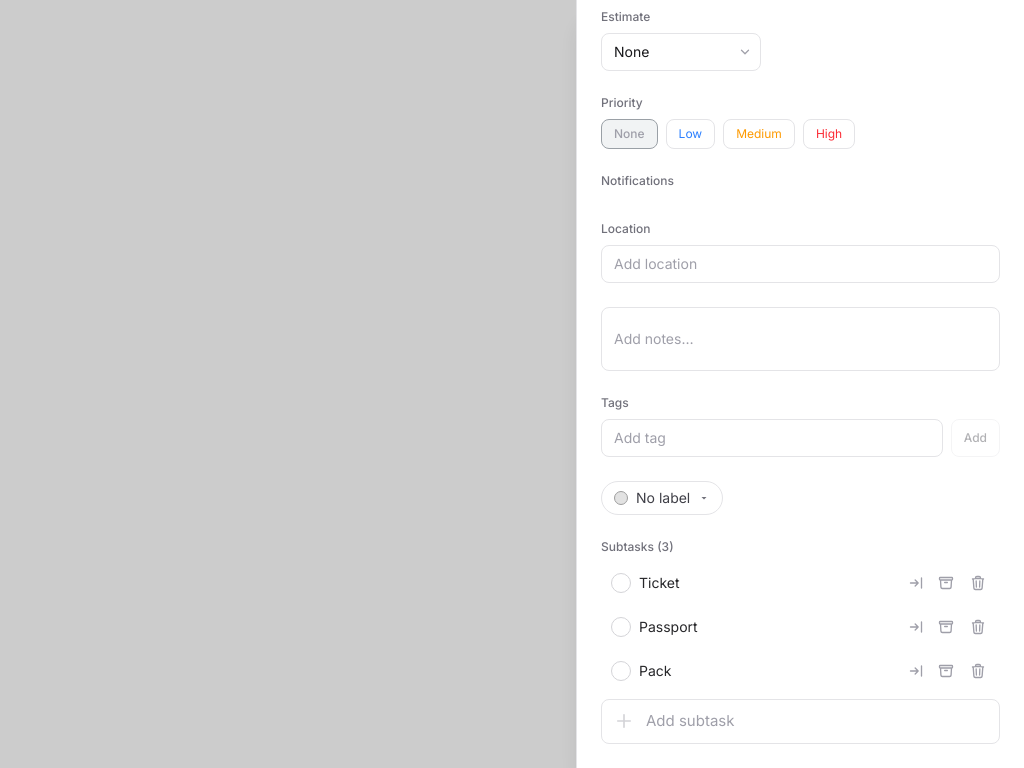
TaskDetail のサブタスク（#613） › 消した・アーカイブした子は欄から消え、件数にも入れない
(page scrolled)
Click the 3rd button named "Delete" at (978, 671), box [966,659,990,683]
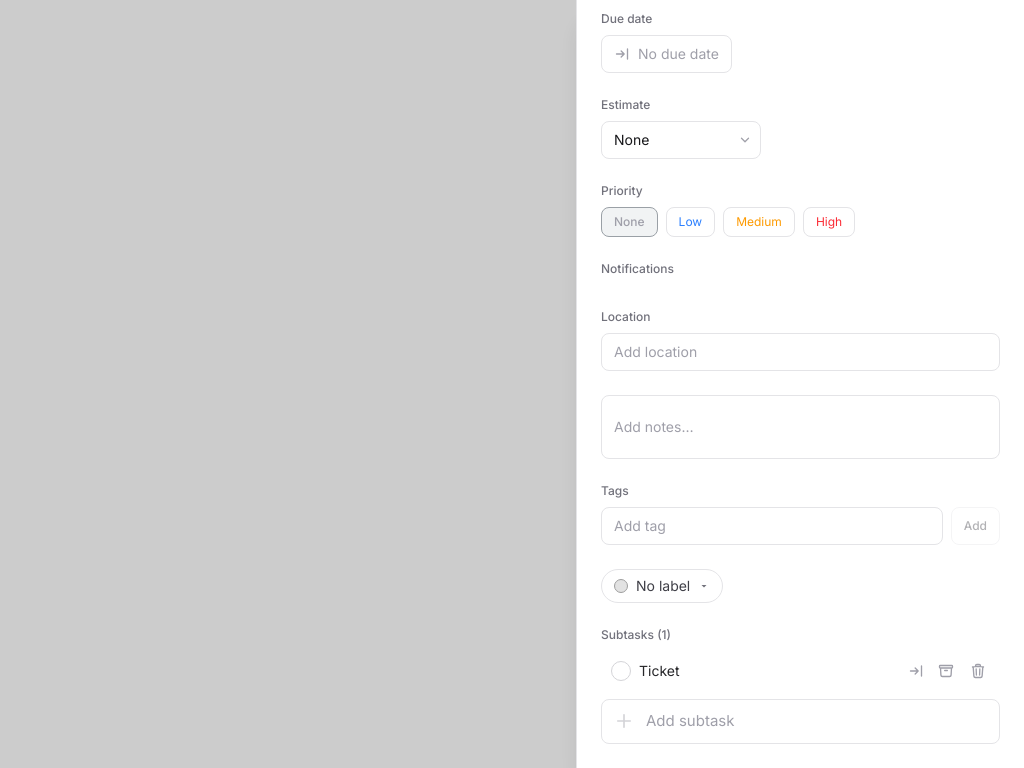
Now the button "Pack" is gone
Now the button "Passport" is gone
Now the text "Subtasks (1)" is shown, box [601,627,671,642]
